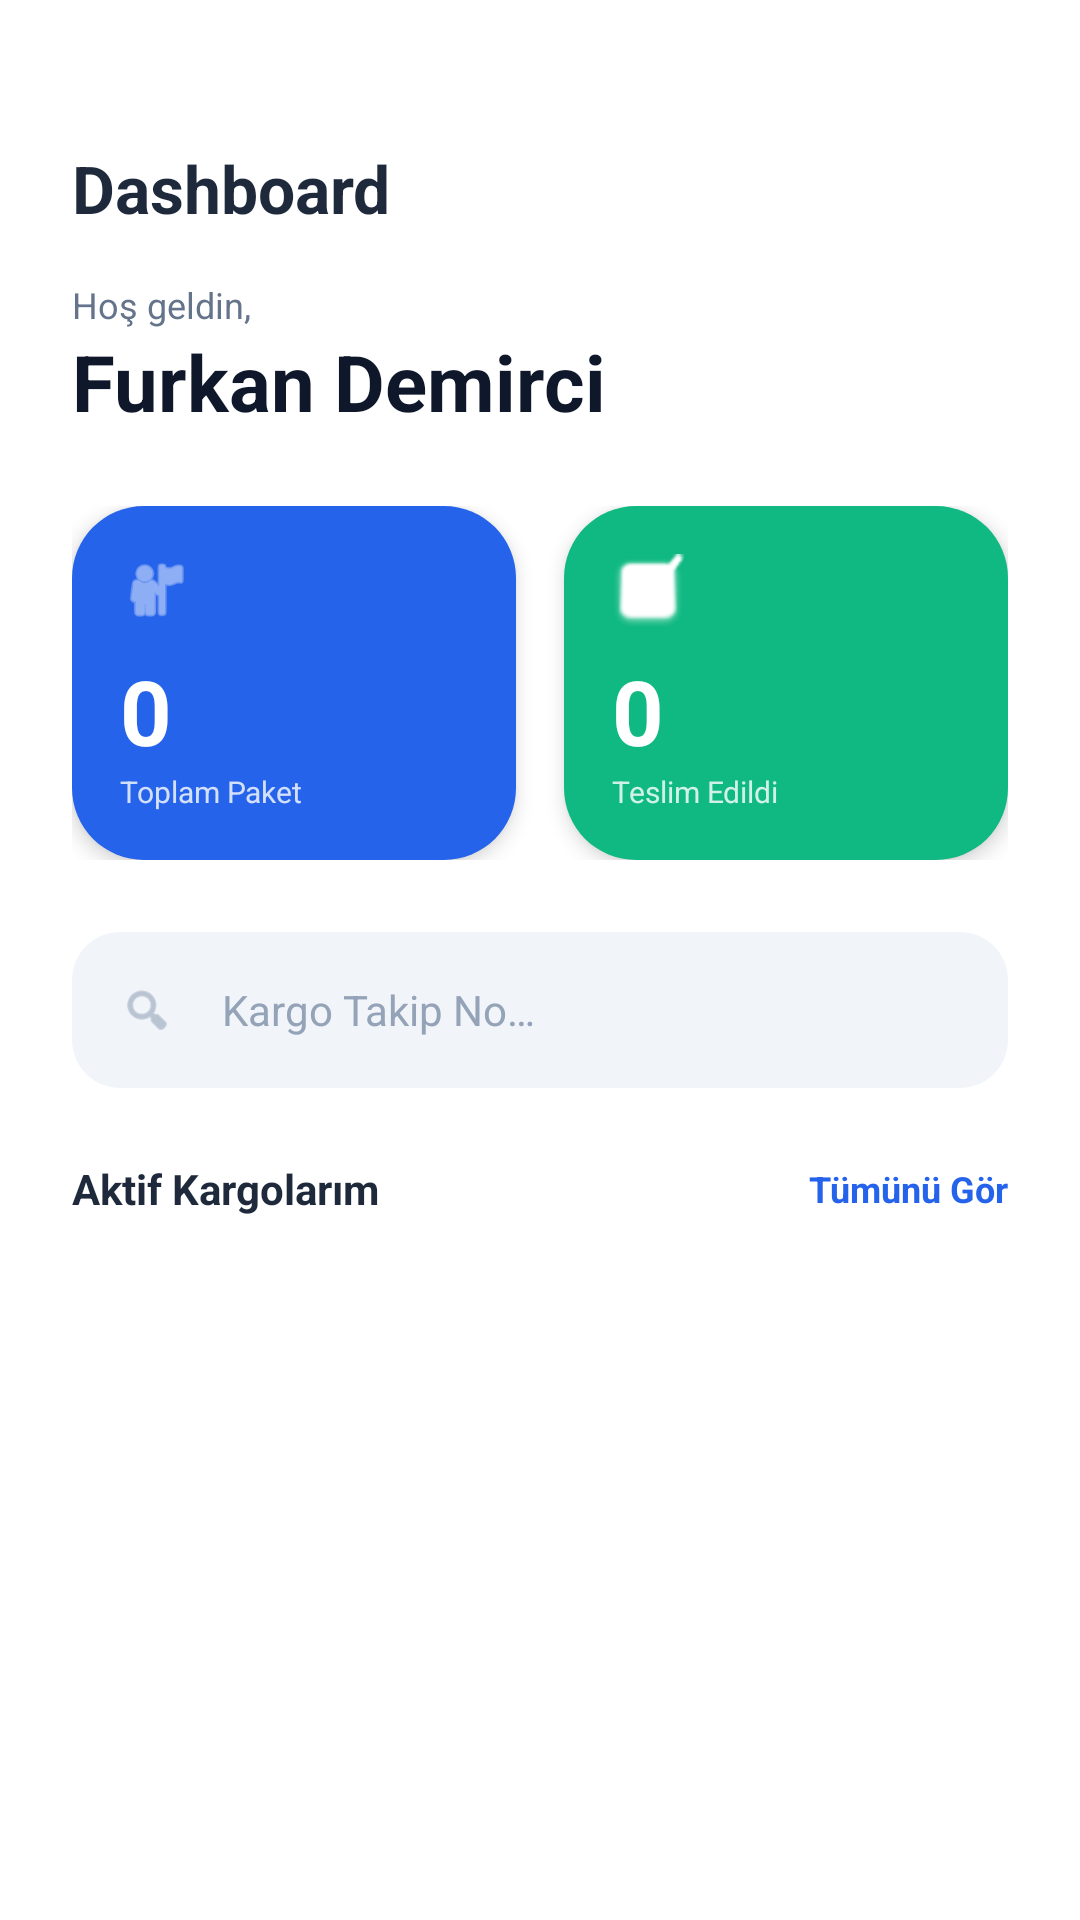

Where icons sit on this 1080w x 1920h app screen, as (x1, y1, x2, y2):
myplaces: (130, 563, 184, 617)
search: (127, 990, 167, 1030)
